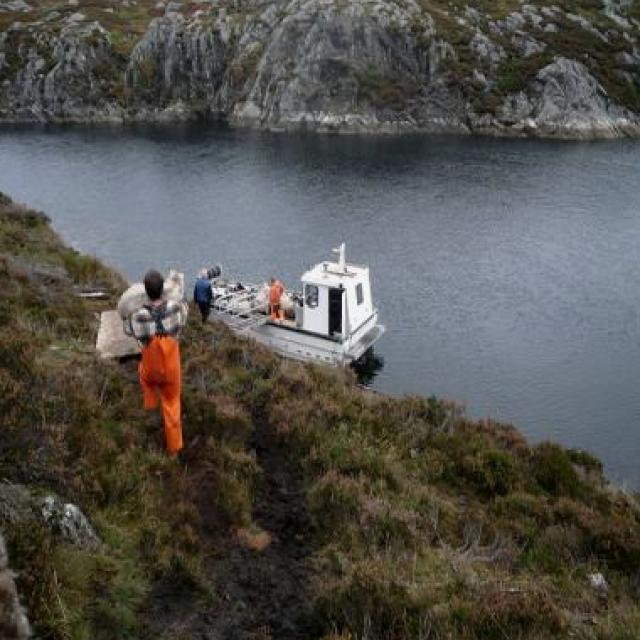ship: (193, 232, 390, 370)
